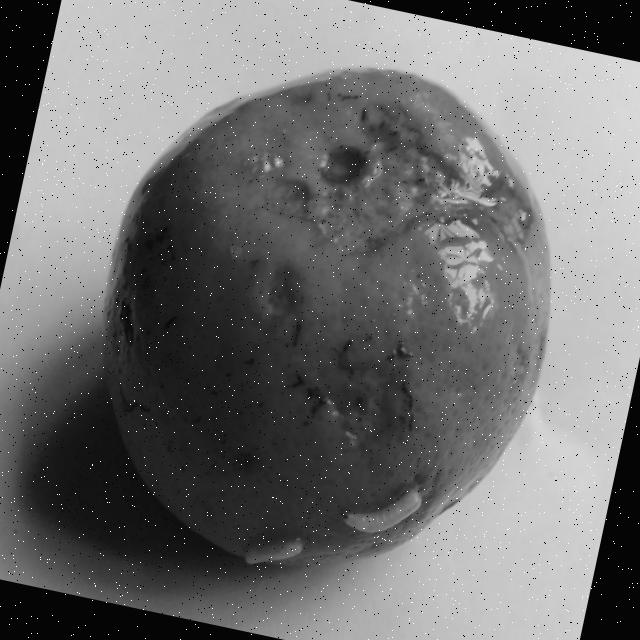Rotten: (50, 20, 596, 618)
